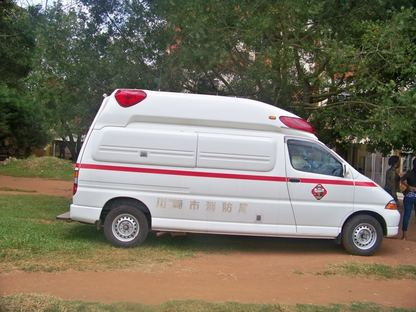ambulance: (56, 90, 399, 255)
